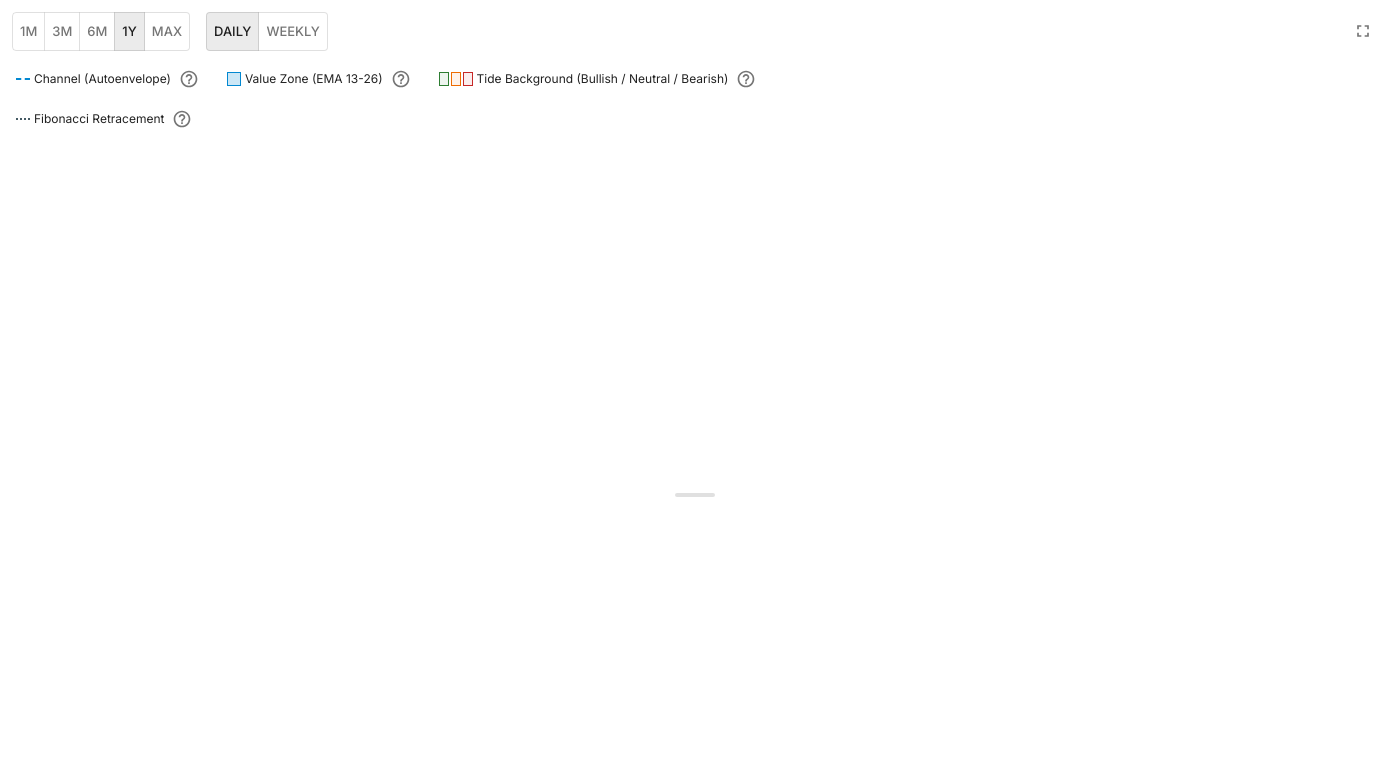
Test: PriceChart › Fibonacci auto-retracement levels (frontend-fibonacci-auto-levels) › draws nothing and caveats the legend for a flat range (every visible bar shares the same high/low)
The width and height of the screenshot is (1390, 780).
Click the button named "Fibonacci Retracement help": (182, 119) [172,109,192,129]
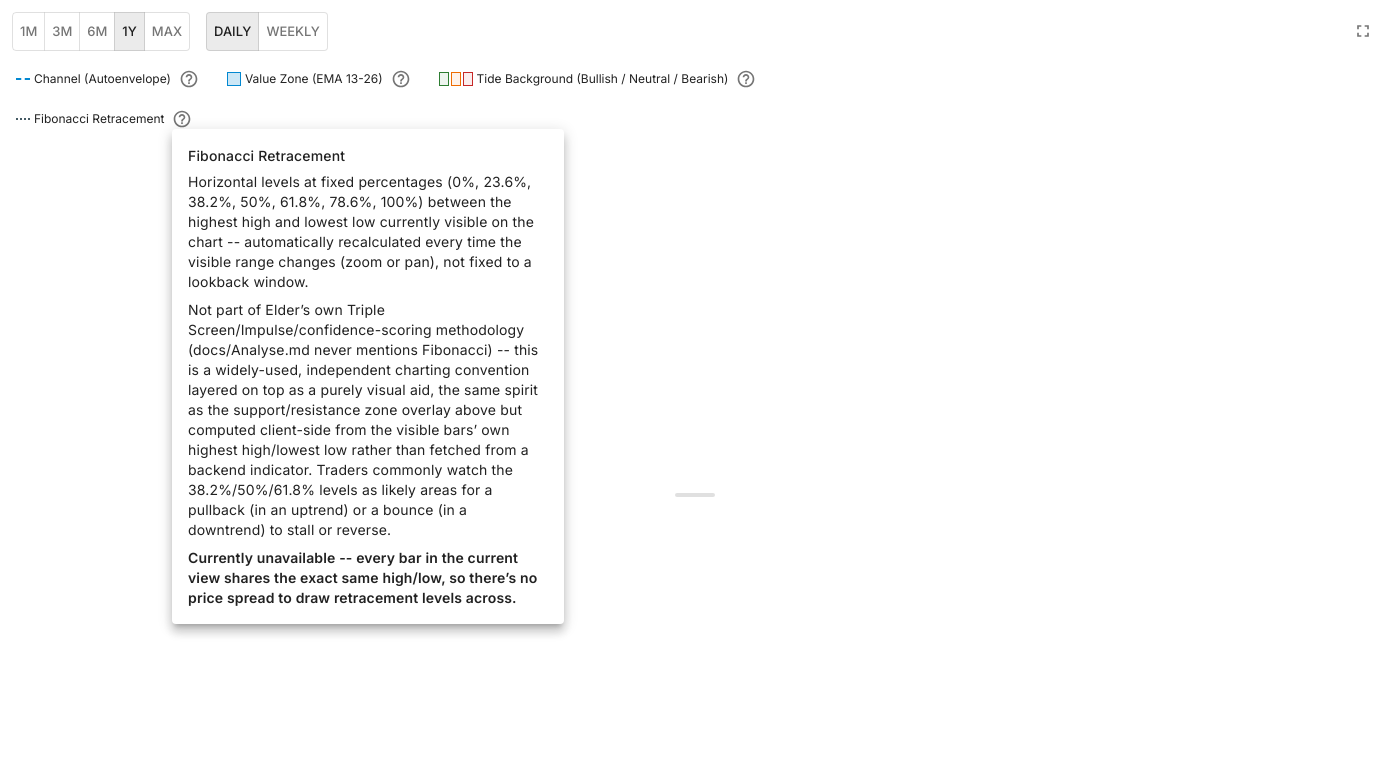
Expected: the text "every bar in the current view shares the exact same high/low" is shown, [188,549,537,606]
